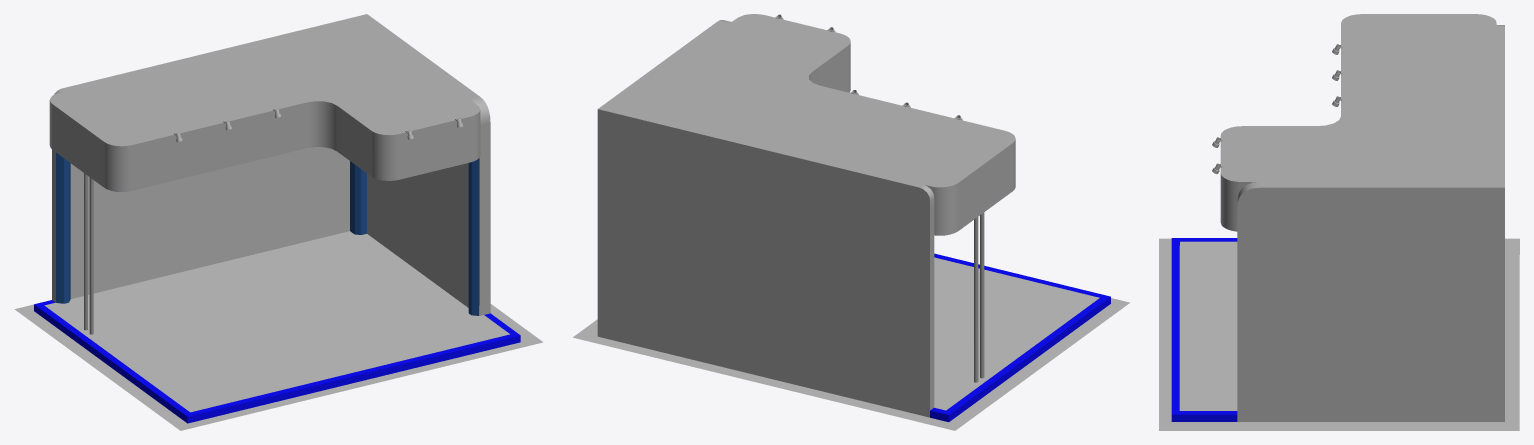
File: type1-cornerDraco.700b4537.glb
3 renders of one model, left to right at view 1: azimuth 30°, elevation 25°; view 2: azimuth 150°, elevation 25°; view 3: azimuth 270°, elevation 25°, orthographic. The views are drawn at different scales.
Visible parts, largest first — view 1: Stall1, Base_AO; view 2: Stall1, Base_AO; view 3: Stall1, Base_AO, Hanging_lights.
Boxes of the visible parts, left/top/right/bottom form: Stall1: left=34, top=14, right=520, bottom=423; Base_AO: left=14, top=304, right=543, bottom=430; Stall1: left=597, top=14, right=1110, bottom=422; Base_AO: left=573, top=298, right=1129, bottom=430; Stall1: left=1171, top=14, right=1504, bottom=421; Base_AO: left=1159, top=238, right=1519, bottom=430; Hanging_lights: left=1212, top=44, right=1342, bottom=173.
Bounding box in the file's own units: 8.32 × 4.78 × 6.6.
